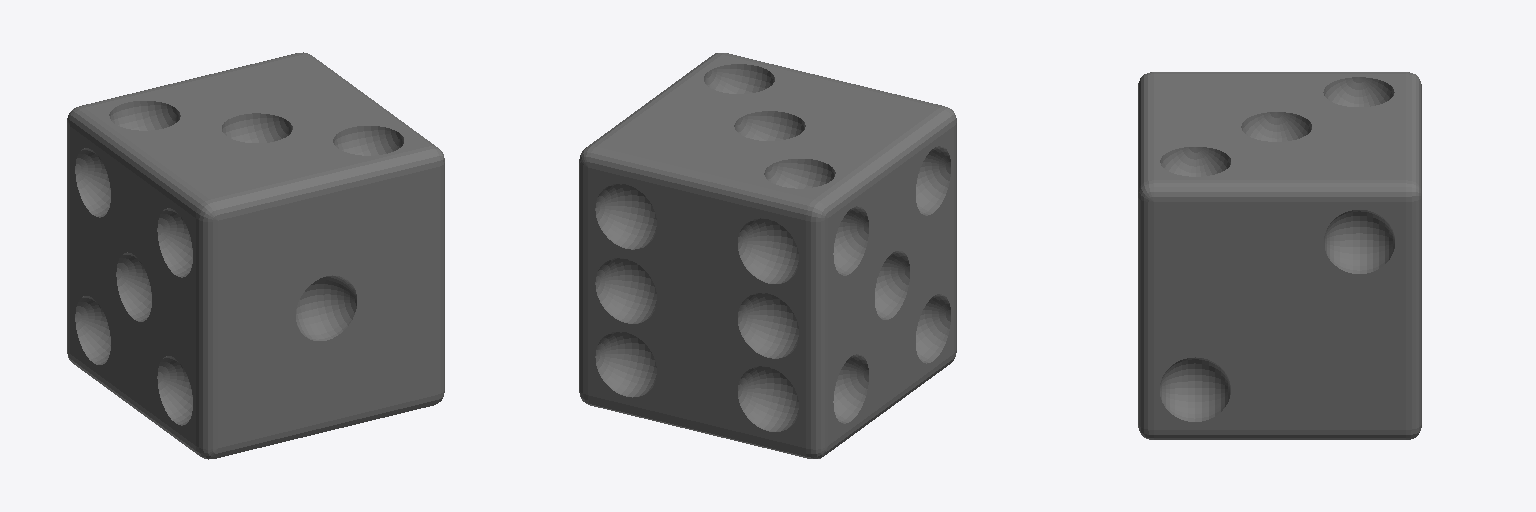
The model's file is Dice.obj.
The picture shows the model from 3 angles: view 1: azimuth 30°, elevation 25°; view 2: azimuth 150°, elevation 25°; view 3: azimuth 270°, elevation 25°; orthographic projection.
Visible parts, largest first — view 1: Box001_Mesh; view 2: Box001_Mesh; view 3: Box001_Mesh.
Boxes of the visible parts, x1,y1,x2,y2 form: Box001_Mesh: [67, 52, 444, 459]; Box001_Mesh: [579, 53, 956, 458]; Box001_Mesh: [1138, 72, 1421, 439].
Size of the model in its own units: 0.4 by 0.4 by 0.4.